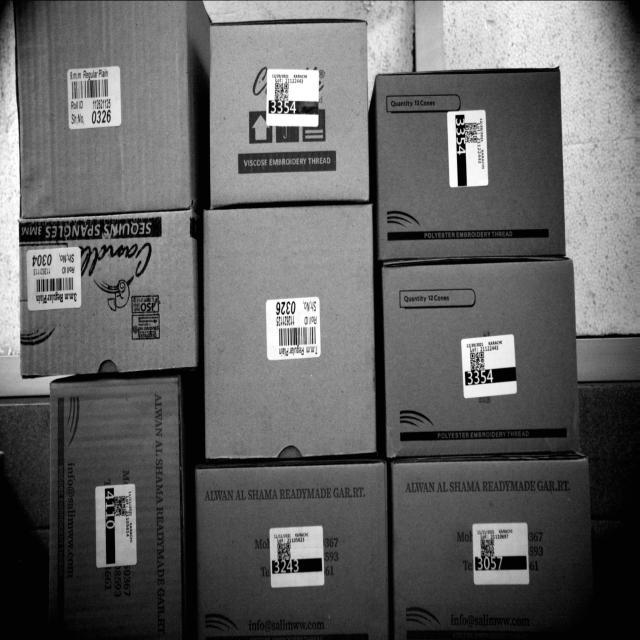box: (205, 211, 378, 464), (46, 380, 187, 640), (385, 270, 581, 456), (15, 0, 189, 206), (393, 463, 593, 639), (383, 73, 564, 260), (15, 207, 202, 374), (203, 17, 371, 201), (195, 476, 388, 636)
